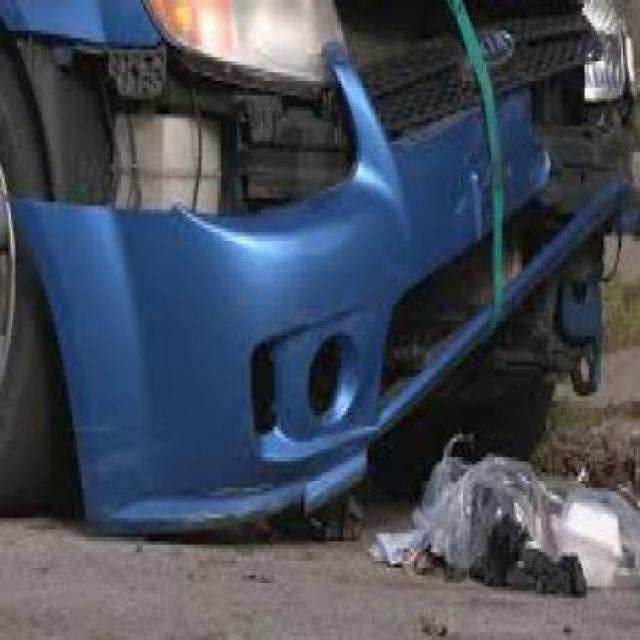damaged-front-bumper: (19, 84, 638, 538)
